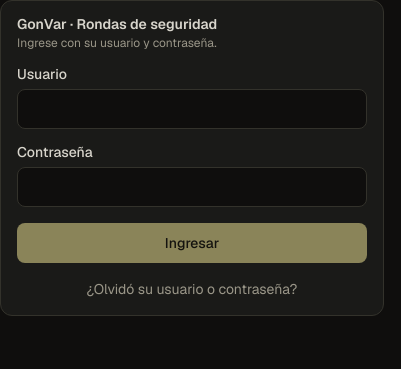
Scenario: LoginForm › muestra el error devuelto por la acción de login
Type "usuario-invalido" into the field labelled "Usuario" at [192, 109], box [17,89,367,129]
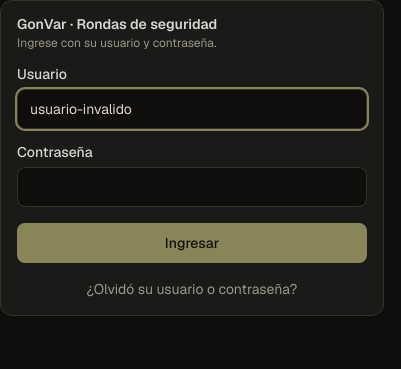
Type "whatever" into the password field labelled "Contraseña" at [192, 187], box [17,167,367,207]
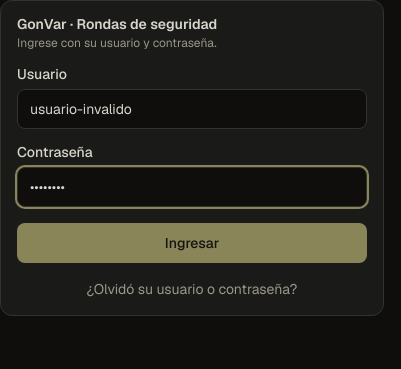
Click the button "Ingresar" at [192, 243], box [17,223,367,263]
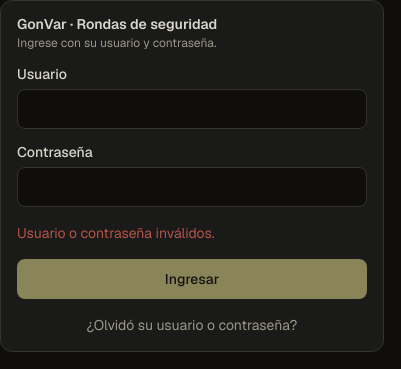
Result: the message shows "inválidos" at [17,224,215,242]
